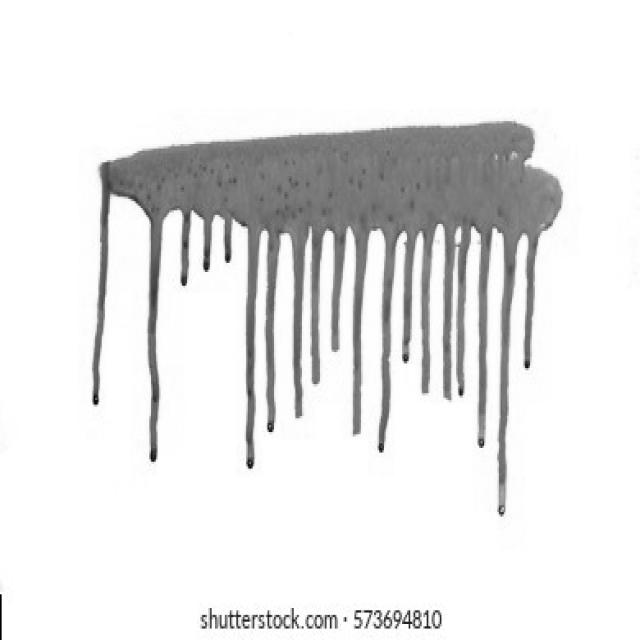paint drips: (396, 98, 603, 553), (87, 139, 278, 491), (262, 100, 433, 485)
